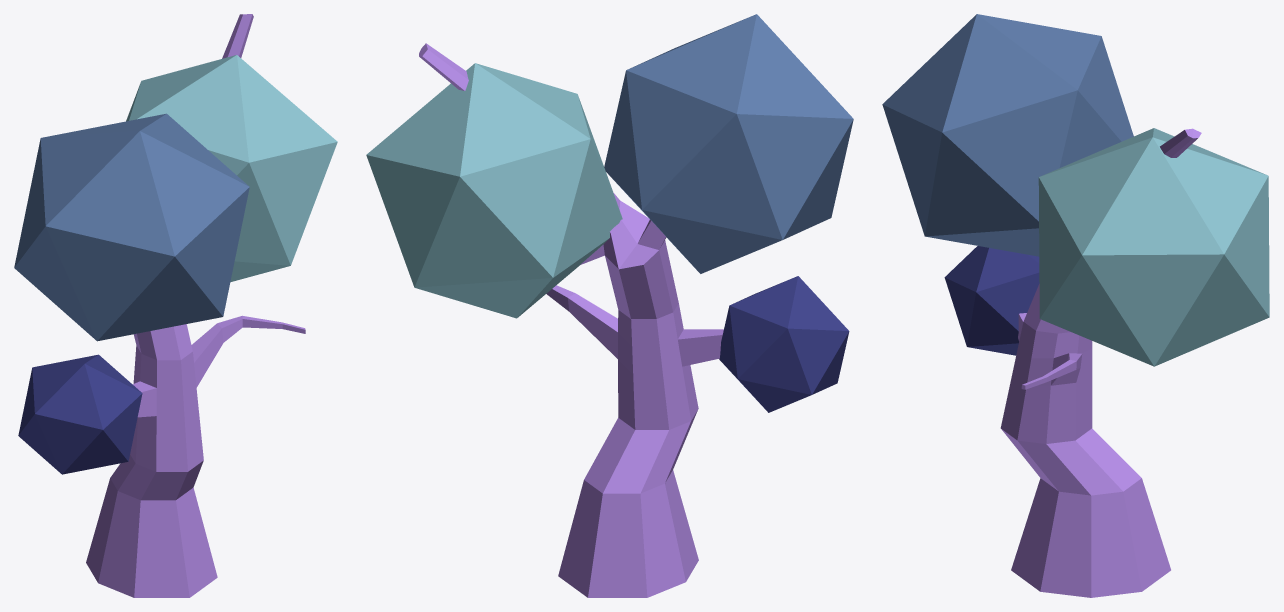
File: 01_05Tree_Blue.fbx
3 views of the same model, side by side, from view 1: azimuth 30°, elevation 25°; view 2: azimuth 150°, elevation 25°; view 3: azimuth 270°, elevation 25° (orthographic). The views are drawn at different scales.
Visible parts, largest first — view 1: Cube.014; view 2: Cube.014; view 3: Cube.014.
Boxes of the visible parts, bbox=[...] form: Cube.014: bbox=[14, 14, 337, 597]; Cube.014: bbox=[366, 14, 853, 597]; Cube.014: bbox=[882, 14, 1269, 597].
Bounding box in the file's own units: 184 × 253 × 170.
